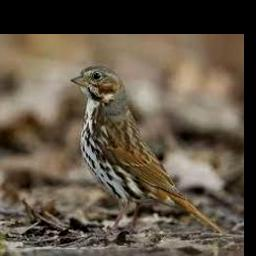Sparrow: (69, 65, 224, 234)
